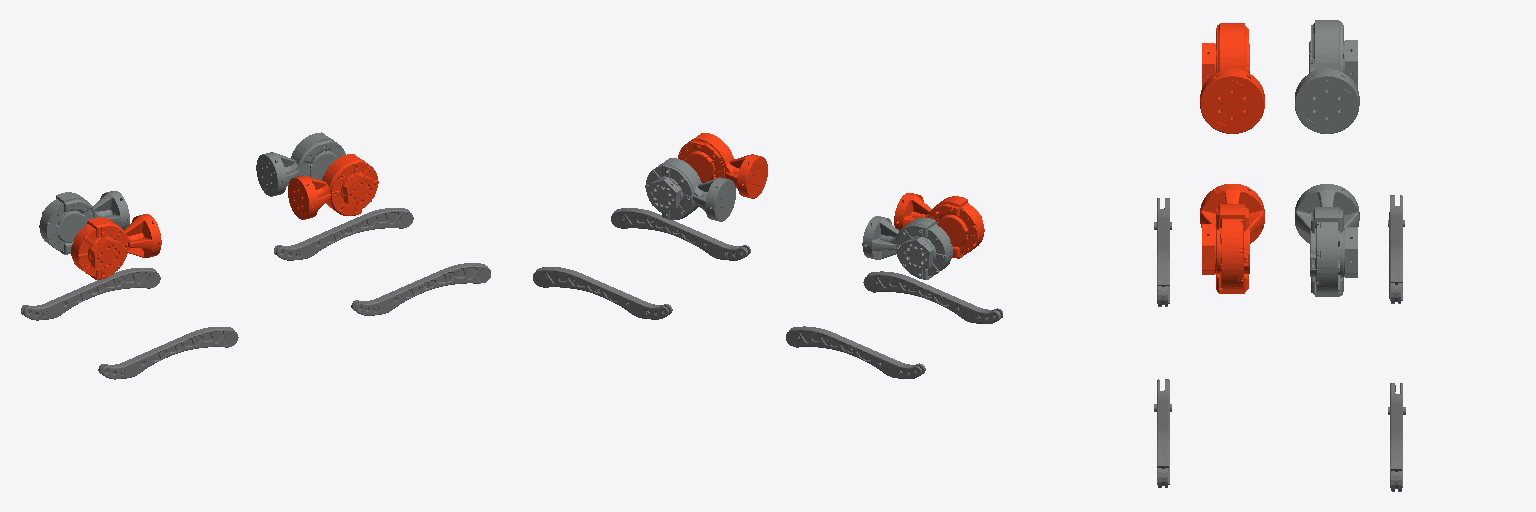
URDF robot description (dog):
<?xml version="1.0" encoding="utf-8"?>

<robot name="dog">

  <!-- <link name="foot_print"/>
  <joint name="foot2base" type="fixed">
    <parent link="foot_print"/>
    <child link="base_link"/>
    <origin xyz="0 0 0.15" rpy = "0 0 0"/>
  </joint> -->
  <mujoco>
        <keyframe>
        <key name="init_pose" 
        qpos="0 0 0.072 1 0 0 0    -0.61 0.88 -2.4569    0.61 0.88 -2.4569    -0.61 0.88 -2.4569    0.61 0.88 -2.4569" />
        </keyframe>
  </mujoco>

  <link
    name="base_link">
    <inertial>
      <origin
        xyz="-0.00116799019536368 -0.000173594149801448 -0.0010330556103498"
        rpy="0 0 0" />
      <mass
        value="3.79635843826293" />
      <inertia
        ixx="0.00653180532591732"
        ixy="-1.11416127424025E-06"
        ixz="-7.14254730089636E-08"
        iyy="0.00699486875003717"
        iyz="3.01555871343607E-09"
        izz="0.00601133855423796" />
    </inertial>
    <visual>
      <origin
        xyz="0 0 0"
        rpy="0 0 0" />
      <geometry>
        <mesh
          filename="package://descrip_pino/urdf/meshes/base_link.stl" />
      </geometry>
      <material
        name="">
        <color
          rgba="1 0.513725490196078 0.835294117647059 1" />
      </material>
    </visual>
    <collision>
      <origin
        xyz="0 0 0"
        rpy="0 0 0" />
      <geometry>
        <mesh
          filename="package://descrip_pino/urdf/meshes/base_link.stl" />
      </geometry>
    </collision>
  </link>
  <link
    name="fr_hip_Link">
    <inertial>
      <origin
        xyz="0.0627765891913514 -0.00732402137606836 0.00137350387141103"
        rpy="0 0 0" />
      <mass
        value="1.22881616014246" />
      <inertia
        ixx="0.000631292527188374"
        ixy="3.67662027694883E-07"
        ixz="-2.31045557920619E-06"
        iyy="0.00102652583112446"
        iyz="3.84306093913306E-07"
        izz="0.000645066715525604" />
    </inertial>
    <visual>
      <origin
        xyz="0 0 0"
        rpy="0 0 0" />
      <geometry>
        <mesh
          filename="package://descrip_pino/urdf/meshes/fr_hip_Link.stl" />
      </geometry>
      <material
        name="">
        <color
          rgba="1 0.301960784313725 0.137254901960784 1" />
      </material>
    </visual>
    <collision>
      <origin
        xyz="0 0 0"
        rpy="0 0 0" />
      <geometry>
        <mesh
          filename="package://descrip_pino/urdf/meshes/fr_hip_Link.stl" />
      </geometry>
    </collision>
  </link>
  <joint
    name="fr_hip_joint"
    type="revolute">
    <origin
      xyz="0.16425 -0.056271 0.0065998"
      rpy="0 0 -0.00019147" />
    <parent
      link="base_link" />
    <child
      link="fr_hip_Link" />
    <axis
      xyz="1 0 0" />
    <limit
      lower="-1.05"
      upper="1.05"
      effort="40"
      velocity="60" />
    <dynamics
      damping="0.01"
      friction="1" />
    <safety_controller
      soft_upper_limit="0.7"
      soft_lower_limit="-0.7"
      k_position="1"
      k_velocity="1" />
  </joint>
  <link
    name="fr_knee_Link">
    <inertial>
      <origin
        xyz="-0.00412725009080483 -0.0455480112536299 -0.0223222238234332"
        rpy="0 0 0" />
      <mass
        value="0.954665731651535" />
      <inertia
        ixx="0.00186475565836449"
        ixy="-2.79601068495168E-05"
        ixz="-0.000117267440722333"
        iyy="0.00242752674808599"
        iyz="-0.000165450621588276"
        izz="0.000721321647610568" />
    </inertial>
    <visual>
      <origin
        xyz="0 0 0"
        rpy="0 0 0" />
      <geometry>
        <mesh
          filename="package://descrip_pino/urdf/meshes/fr_knee_Link.stl" />
      </geometry>
      <material
        name="">
        <color
          rgba="0.898039215686275 0.917647058823529 0.929411764705882 1" />
      </material>
    </visual>
    <collision>
      <origin
        xyz="0 0 0"
        rpy="0 0 0" />
      <geometry>
        <mesh
          filename="package://descrip_pino/urdf/meshes/fr_knee_Link.stl" />
      </geometry>
    </collision>
  </link>
  <joint
    name="fr_knee_joint"
    type="revolute">
    <origin
      xyz="0.093 -0.0211 0.0019065"
      rpy="0 0 0" />
    <parent
      link="fr_hip_Link" />
    <child
      link="fr_knee_Link" />
    <axis
      xyz="0 1 0" />
    <limit
      lower="-0.7"
      upper="1.4"
      effort="40"
      velocity="60" />
    <dynamics
      damping="0.01"
      friction="1" />
    <safety_controller
      soft_upper_limit="1.4"
      soft_lower_limit="-0.7"
      k_position="1"
      k_velocity="1" />
  </joint>
  <link
    name="fr_thigh_Link">
    <inertial>
      <origin
        xyz="0.00802915937842624 1.74427164177371E-05 -0.100093112807725"
        rpy="0 0 0" />
      <mass
        value="0.102312763356514" />
      <inertia
        ixx="0.00063154856177368"
        ixy="2.66665866957018E-09"
        ixz="1.79399444282298E-05"
        iyy="0.000640821611514968"
        iyz="1.02190020967524E-07"
        izz="1.02238835213698E-05" />
    </inertial>
    <visual>
      <origin
        xyz="0 0 0"
        rpy="0 0 0" />
      <geometry>
        <mesh
          filename="package://descrip_pino/urdf/meshes/fr_thigh_Link.stl" />
      </geometry>
      <material
        name="">
        <color
          rgba="0.498039215686275 0.498039215686275 0.498039215686275 1" />
      </material>
    </visual>
    <collision>
      <origin
        xyz="0 0 0"
        rpy="0 0 0" />
      <geometry>
        <mesh
          filename="package://descrip_pino/urdf/meshes/fr_thigh_Link.stl" />
      </geometry>
    </collision>
  </link>
  <joint
    name="fr_thigh_joint"
    type="revolute">
    <origin
      xyz="0 -0.0609 -0.20735"
      rpy="0 0 0" />
    <parent
      link="fr_knee_Link" />
    <child
      link="fr_thigh_Link" />
    <axis
      xyz="0 1 0" />
    <limit
      lower="-2.44"
      upper="-0.83"
      effort="40"
      velocity="60" />
    <dynamics
      damping="0.01"
      friction="1" />
    <safety_controller
      soft_upper_limit="-0.83"
      soft_lower_limit="-2.44"
      k_position="1"
      k_velocity="1" />
  </joint>
  <link
    name="fl_hip_Link">
    <inertial>
      <origin
        xyz="0.0627765358969441 0.00765302314809621 -0.00137351911513577"
        rpy="0 0 0" />
      <mass
        value="1.22881742389137" />
      <inertia
        ixx="0.000631292707714591"
        ixy="-3.67698549791564E-07"
        ixz="2.31106298356401E-06"
        iyy="0.00102652463314235"
        iyz="3.84297175292907E-07"
        izz="0.000645065773792379" />
    </inertial>
    <visual>
      <origin
        xyz="0 0 0"
        rpy="0 0 0" />
      <geometry>
        <mesh
          filename="package://descrip_pino/urdf/meshes/fl_hip_Link.stl" />
      </geometry>
      <material
        name="">
        <color
          rgba="0.529411764705882 0.549019607843137 0.549019607843137 1" />
      </material>
    </visual>
    <collision>
      <origin
        xyz="0 0 0"
        rpy="0 0 0" />
      <geometry>
        <mesh
          filename="package://descrip_pino/urdf/meshes/fl_hip_Link.stl" />
      </geometry>
    </collision>
  </link>
  <joint
    name="fl_hip_joint"
    type="revolute">
    <origin
      xyz="0.16478 0.056229 0.0065999"
      rpy="0 0 -0.00019147" />
    <parent
      link="base_link" />
    <child
      link="fl_hip_Link" />
    <axis
      xyz="1 0 0" />
    <limit
      lower="-1.05"
      upper="1.05"
      effort="40"
      velocity="60" />
    <dynamics
      damping="0.01"
      friction="1" />
    <safety_controller
      soft_upper_limit="0.7"
      soft_lower_limit="-0.7"
      k_position="1"
      k_velocity="1" />
  </joint>
  <link
    name="fl_knee_Link">
    <inertial>
      <origin
        xyz="-0.00405628604914013 0.0455087651893473 -0.0222995983043919"
        rpy="0 0 0" />
      <mass
        value="0.954330307021386" />
      <inertia
        ixx="0.00186966839593566"
        ixy="2.8888612937339E-05"
        ixz="-0.000124479493853723"
        iyy="0.00243368281342031"
        iyz="0.000165899598157394"
        izz="0.000722653966087135" />
    </inertial>
    <visual>
      <origin
        xyz="0 0 0"
        rpy="0 0 0" />
      <geometry>
        <mesh
          filename="package://descrip_pino/urdf/meshes/fl_knee_Link.stl" />
      </geometry>
      <material
        name="">
        <color
          rgba="0.898039215686275 0.917647058823529 0.929411764705882 1" />
      </material>
    </visual>
    <collision>
      <origin
        xyz="0 0 0"
        rpy="0 0 0" />
      <geometry>
        <mesh
          filename="package://descrip_pino/urdf/meshes/fl_knee_Link.stl" />
      </geometry>
    </collision>
  </link>
  <joint
    name="fl_knee_joint"
    type="revolute">
    <origin
      xyz="0.093 0.0216 -0.0019065"
      rpy="0 0 0" />
    <parent
      link="fl_hip_Link" />
    <child
      link="fl_knee_Link" />
    <axis
      xyz="0 1 0" />
    <limit
      lower="-0.7"
      upper="1.4"
      effort="40"
      velocity="60" />
    <dynamics
      damping="0.01"
      friction="1" />
    <safety_controller
      soft_upper_limit="1.4"
      soft_lower_limit="-0.7"
      k_position="1"
      k_velocity="1" />
  </joint>
  <link
    name="fl_thigh_Link">
    <inertial>
      <origin
        xyz="0.00802923466667932 -0.00799683255686048 -0.100093139515383"
        rpy="0 0 0" />
      <mass
        value="0.102312565321635" />
      <inertia
        ixx="0.000631616656831354"
        ixy="-2.06179202513469E-09"
        ixz="1.79386806326537E-05"
        iyy="0.000640889732758803"
        iyz="-1.61919426051744E-07"
        izz="1.02238978474402E-05" />
    </inertial>
    <visual>
      <origin
        xyz="0 0 0"
        rpy="0 0 0" />
      <geometry>
        <mesh
          filename="package://descrip_pino/urdf/meshes/fl_thigh_Link.stl" />
      </geometry>
      <material
        name="">
        <color
          rgba="0.498039215686275 0.498039215686275 0.498039215686275 1" />
      </material>
    </visual>
    <collision>
      <origin
        xyz="0 0 0"
        rpy="0 0 0" />
      <geometry>
        <mesh
          filename="package://descrip_pino/urdf/meshes/fl_thigh_Link.stl" />
      </geometry>
    </collision>
  </link>
  <joint
    name="fl_thigh_joint"
    type="revolute">
    <origin
      xyz="0 0.0689 -0.20735"
      rpy="0 0 0" />
    <parent
      link="fl_knee_Link" />
    <child
      link="fl_thigh_Link" />
    <axis
      xyz="0 1 0" />
    <limit
      lower="-2.44"
      upper="-0.83"
      effort="40"
      velocity="60" />
    <dynamics
      damping="0.01"
      friction="1" />
    <safety_controller
      soft_upper_limit="-0.83"
      soft_lower_limit="-2.44"
      k_position="1"
      k_velocity="1" />
  </joint>
  <link
    name="br_hip_Link">
    <inertial>
      <origin
        xyz="-0.0627764275235256 -0.00732402694182105 -0.0013734252685203"
        rpy="0 0 0" />
      <mass
        value="1.2288141630314" />
      <inertia
        ixx="0.00063129214550813"
        ixy="-3.6743456585462E-07"
        ixz="-2.31042806499908E-06"
        iyy="0.00102652462204545"
        iyz="-3.84157955506349E-07"
        izz="0.000645066115091339" />
    </inertial>
    <visual>
      <origin
        xyz="0 0 0"
        rpy="0 0 0" />
      <geometry>
        <mesh
          filename="package://descrip_pino/urdf/meshes/br_hip_Link.stl" />
      </geometry>
      <material
        name="">
        <color
          rgba="1 0.301960784313725 0.137254901960784 1" />
      </material>
    </visual>
    <collision>
      <origin
        xyz="0 0 0"
        rpy="0 0 0" />
      <geometry>
        <mesh
          filename="package://descrip_pino/urdf/meshes/br_hip_Link.stl" />
      </geometry>
    </collision>
  </link>
  <joint
    name="br_hip_joint"
    type="revolute">
    <origin
      xyz="-0.16795 -0.056228 0.0067"
      rpy="0 0 -0.00019147" />
    <parent
      link="base_link" />
    <child
      link="br_hip_Link" />
    <axis
      xyz="1 0 0" />
    <limit
      lower="-1.05"
      upper="1.05"
      effort="40"
      velocity="60" />
    <dynamics
      damping="0.01"
      friction="1" />
    <safety_controller
      soft_upper_limit="0.7"
      soft_lower_limit="-0.7"
      k_position="1"
      k_velocity="1" />
  </joint>
  <link
    name="br_knee_Link">
    <inertial>
      <origin
        xyz="-0.00400975001715265 -0.0454196061928914 -0.0217568576725027"
        rpy="0 0 0" />
      <mass
        value="0.942891058030412" />
      <inertia
        ixx="0.00186440810823894"
        ixy="-2.79601184540589E-05"
        ixz="-0.000116878517215413"
        iyy="0.00242681712954829"
        iyz="-0.000165450534666229"
        izz="0.000720858758231732" />
    </inertial>
    <visual>
      <origin
        xyz="0 0 0"
        rpy="0 0 0" />
      <geometry>
        <mesh
          filename="package://descrip_pino/urdf/meshes/br_knee_Link.stl" />
      </geometry>
      <material
        name="">
        <color
          rgba="0.898039215686275 0.917647058823529 0.929411764705882 1" />
      </material>
    </visual>
    <collision>
      <origin
        xyz="0 0 0"
        rpy="0 0 0" />
      <geometry>
        <mesh
          filename="package://descrip_pino/urdf/meshes/br_knee_Link.stl" />
      </geometry>
    </collision>
  </link>
  <joint
    name="br_knee_joint"
    type="revolute">
    <origin
      xyz="-0.093 -0.0211 -0.0019064"
      rpy="0 0 0" />
    <parent
      link="br_hip_Link" />
    <child
      link="br_knee_Link" />
    <axis
      xyz="0 1 0" />
    <limit
      lower="-0.7"
      upper="1.4"
      effort="40"
      velocity="60" />
    <dynamics
      damping="0.01"
      friction="1" />
    <safety_controller
      soft_upper_limit="1.4"
      soft_lower_limit="-0.7"
      k_position="1"
      k_velocity="1" />
  </joint>
  <link
    name="br_thigh_Link">
    <inertial>
      <origin
        xyz="0.00802915937842674 1.74427164189583E-05 -0.100093112807641"
        rpy="0 0 0" />
      <mass
        value="0.102312763356646" />
      <inertia
        ixx="0.000631548561774211"
        ixy="2.66665867833189E-09"
        ixz="1.793994442838E-05"
        iyy="0.000640821611515542"
        iyz="1.02190020954049E-07"
        izz="1.02238835214126E-05" />
    </inertial>
    <visual>
      <origin
        xyz="0 0 0"
        rpy="0 0 0" />
      <geometry>
        <mesh
          filename="package://descrip_pino/urdf/meshes/br_thigh_Link.stl" />
      </geometry>
      <material
        name="">
        <color
          rgba="0.498039215686275 0.498039215686275 0.498039215686275 1" />
      </material>
    </visual>
    <collision>
      <origin
        xyz="0 0 0"
        rpy="0 0 0" />
      <geometry>
        <mesh
          filename="package://descrip_pino/urdf/meshes/br_thigh_Link.stl" />
      </geometry>
    </collision>
  </link>
  <joint
    name="br_thigh_joint"
    type="revolute">
    <origin
      xyz="0 -0.0609 -0.20735"
      rpy="0 0 0" />
    <parent
      link="br_knee_Link" />
    <child
      link="br_thigh_Link" />
    <axis
      xyz="0 1 0" />
    <limit
      lower="-2.44"
      upper="-0.83"
      effort="40"
      velocity="60" />
    <dynamics
      damping="0.01"
      friction="1" />
    <safety_controller
      soft_upper_limit="-0.83"
      soft_lower_limit="-2.44"
      k_position="1"
      k_velocity="1" />
  </joint>
  <link
    name="bl_hip_Link">
    <inertial>
      <origin
        xyz="-0.0627763928127562 0.00732401504497628 0.00137343527873432"
        rpy="0 0 0" />
      <mass
        value="1.22881684709264" />
      <inertia
        ixx="0.000631292448644309"
        ixy="3.67747906500063E-07"
        ixz="2.31082706601495E-06"
        iyy="0.00102652544836147"
        iyz="-3.84340906047479E-07"
        izz="0.00064506651120815" />
    </inertial>
    <visual>
      <origin
        xyz="0 0 0"
        rpy="0 0 0" />
      <geometry>
        <mesh
          filename="package://descrip_pino/urdf/meshes/bl_hip_Link.stl" />
      </geometry>
      <material
        name="">
        <color
          rgba="0.529411764705882 0.549019607843137 0.549019607843137 1" />
      </material>
    </visual>
    <collision>
      <origin
        xyz="0 0 0"
        rpy="0 0 0" />
      <geometry>
        <mesh
          filename="package://descrip_pino/urdf/meshes/bl_hip_Link.stl" />
      </geometry>
    </collision>
  </link>
  <joint
    name="bl_hip_joint"
    type="revolute">
    <origin
      xyz="-0.16792 0.056272 0.0067"
      rpy="0 0 -0.00019147" />
    <parent
      link="base_link" />
    <child
      link="bl_hip_Link" />
    <axis
      xyz="1 0 0" />
    <limit
      lower="-1.05"
      upper="1.05"
      effort="40"
      velocity="60" />
    <dynamics
      damping="0.01"
      friction="1" />
    <safety_controller
      soft_upper_limit="0.7"
      soft_lower_limit="-0.7"
      k_position="1"
      k_velocity="1" />
  </joint>
  <link
    name="bl_knee_Link">
    <inertial>
      <origin
        xyz="-0.00409868813521258 0.0455459705403089 -0.0223092739762113"
        rpy="0 0 0" />
      <mass
        value="0.954330235655386" />
      <inertia
        ixx="0.00186935549470052"
        ixy="2.88885860851926E-05"
        ixz="-0.000125358484414154"
        iyy="0.00243368278617631"
        iyz="0.000165899579243607"
        izz="0.000722966838340199" />
    </inertial>
    <visual>
      <origin
        xyz="0 0 0"
        rpy="0 0 0" />
      <geometry>
        <mesh
          filename="package://descrip_pino/urdf/meshes/bl_knee_Link.stl" />
      </geometry>
      <material
        name="">
        <color
          rgba="0.898039215686275 0.917647058823529 0.929411764705882 1" />
      </material>
    </visual>
    <collision>
      <origin
        xyz="0 0 0"
        rpy="0 0 0" />
      <geometry>
        <mesh
          filename="package://descrip_pino/urdf/meshes/bl_knee_Link.stl" />
      </geometry>
    </collision>
  </link>
  <joint
    name="bl_knee_joint"
    type="revolute">
    <origin
      xyz="-0.093 0.0211 0.0019064"
      rpy="0 0 0" />
    <parent
      link="bl_hip_Link" />
    <child
      link="bl_knee_Link" />
    <axis
      xyz="0 1 0" />
    <limit
      lower="-0.7"
      upper="1.4"
      effort="40"
      velocity="60" />
    <dynamics
      damping="0.01"
      friction="1" />
    <safety_controller
      soft_upper_limit="1.4"
      soft_lower_limit="-0.7"
      k_position="1"
      k_velocity="1" />
  </joint>
  <link
    name="bl_thigh_Link">
    <inertial>
      <origin
        xyz="0.0080292346666706 -0.00799683255686171 -0.100093139515354"
        rpy="0 0 0" />
      <mass
        value="0.102312565321635" />
      <inertia
        ixx="0.000631616656831351"
        ixy="-2.06179202954265E-09"
        ixz="1.7938680632658E-05"
        iyy="0.000640889732758812"
        iyz="-1.619194260572E-07"
        izz="1.02238978474551E-05" />
    </inertial>
    <visual>
      <origin
        xyz="0 0 0"
        rpy="0 0 0" />
      <geometry>
        <mesh
          filename="package://descrip_pino/urdf/meshes/bl_thigh_Link.stl" />
      </geometry>
      <material
        name="">
        <color
          rgba="0.498039215686275 0.498039215686275 0.498039215686275 1" />
      </material>
    </visual>
    <collision>
      <origin
        xyz="0 0 0"
        rpy="0 0 0" />
      <geometry>
        <mesh
          filename="package://descrip_pino/urdf/meshes/bl_thigh_Link.stl" />
      </geometry>
    </collision>
  </link>
  <joint
    name="bl_thigh_joint"
    type="revolute">
    <origin
      xyz="0 0.0689 -0.20735"
      rpy="0 0 0" />
    <parent
      link="bl_knee_Link" />
    <child
      link="bl_thigh_Link" />
    <axis
      xyz="0 1 0" />
    <limit
      lower="-2.44"
      upper="-0.83"
      effort="40"
      velocity="60" />
    <dynamics
      damping="0.01"
      friction="1" />
    <safety_controller
      soft_upper_limit="-0.83"
      soft_lower_limit="-2.44"
      k_position="1"
      k_velocity="1" />
  </joint>
</robot>

--- Render facts (derived) ---
The picture shows the robot from 3 angles, left to right: view 1: azimuth 30°, elevation 25°; view 2: azimuth 150°, elevation 25°; view 3: azimuth 270°, elevation 25°; orthographic projection.
Model dog with 13 links and 12 joints (12 revolute), rooted at base_link, posed all joints at 0 but 4 set to mid-range because 0 is outside their limits (fr_thigh_joint = -1.64, fl_thigh_joint = -1.64, br_thigh_joint = -1.64, bl_thigh_joint = -1.64).
Visible links, largest first — view 1: br_hip_Link, fr_hip_Link, bl_hip_Link, fl_hip_Link, fr_thigh_Link, fl_thigh_Link, br_thigh_Link, bl_thigh_Link; view 2: fl_hip_Link, bl_hip_Link, fr_hip_Link, br_hip_Link, fl_thigh_Link, bl_thigh_Link, br_thigh_Link, fr_thigh_Link; view 3: bl_hip_Link, fl_hip_Link, br_hip_Link, fr_hip_Link, bl_thigh_Link, fl_thigh_Link, br_thigh_Link, fr_thigh_Link.
Boxes of the visible links, <box> form: br_hip_Link: <box>71,214,161,279</box>; fr_hip_Link: <box>288,154,378,219</box>; bl_hip_Link: <box>39,191,129,254</box>; fl_hip_Link: <box>256,132,345,196</box>; fr_thigh_Link: <box>351,263,490,315</box>; fl_thigh_Link: <box>274,208,413,260</box>; br_thigh_Link: <box>98,327,238,379</box>; bl_thigh_Link: <box>21,268,160,320</box>; fl_hip_Link: <box>645,158,735,221</box>; bl_hip_Link: <box>862,216,952,279</box>; fr_hip_Link: <box>678,133,767,198</box>; br_hip_Link: <box>894,193,984,258</box>; fl_thigh_Link: <box>533,267,672,319</box>; bl_thigh_Link: <box>786,326,925,378</box>; br_thigh_Link: <box>863,271,1002,323</box>; fr_thigh_Link: <box>611,208,750,260</box>; bl_hip_Link: <box>1295,20,1359,133</box>; fl_hip_Link: <box>1295,184,1359,296</box>; br_hip_Link: <box>1200,23,1264,133</box>; fr_hip_Link: <box>1200,184,1264,293</box>; bl_thigh_Link: <box>1388,195,1404,303</box>; fl_thigh_Link: <box>1388,383,1405,491</box>; br_thigh_Link: <box>1154,198,1171,306</box>; fr_thigh_Link: <box>1154,379,1171,487</box>.
Size in the robot's own frame: 0.8038 by 0.299 by 0.2787 metres.
Meshes: 13 distinct files referenced, 8 mesh visuals loaded (8 binary STL); not drawn: 5 (reference not matched to a file when rendering).
